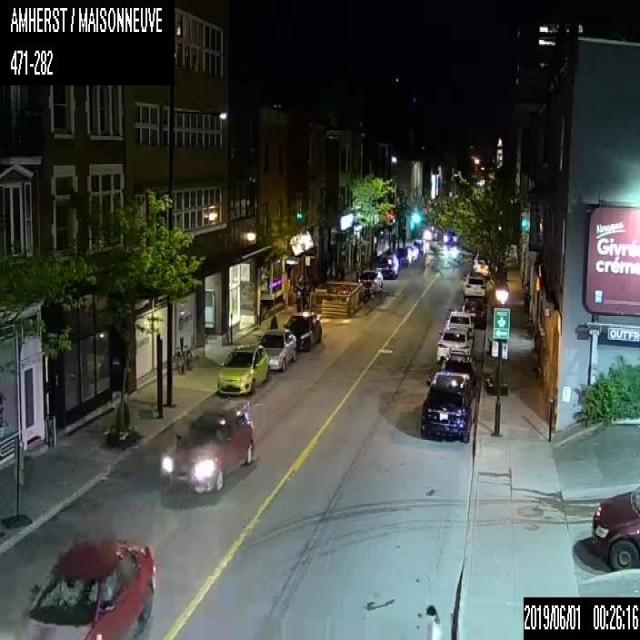pedestrian: (268, 312, 278, 328)
vehicle: (13, 534, 154, 638), (156, 405, 254, 492), (420, 370, 476, 443), (591, 484, 639, 569), (216, 339, 269, 395), (258, 327, 296, 371), (282, 309, 322, 349), (440, 350, 476, 386), (436, 324, 473, 359), (446, 309, 474, 338), (461, 297, 487, 325), (461, 271, 486, 299), (358, 269, 382, 294), (375, 253, 398, 277), (396, 246, 411, 266), (472, 258, 488, 276)
